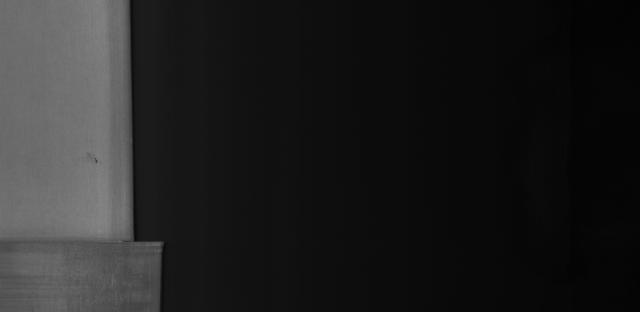welding_line: (2, 233, 173, 250)
